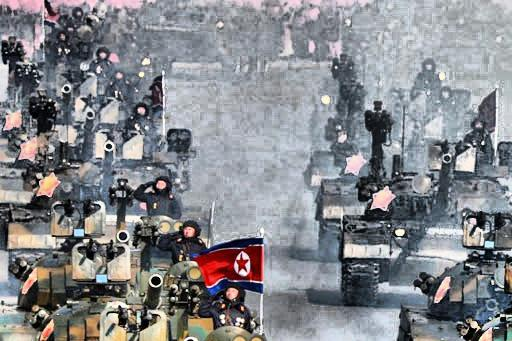tanks: (317, 145, 512, 307), (2, 275, 207, 341), (471, 307, 512, 341), (213, 329, 264, 341), (505, 145, 512, 162), (183, 337, 198, 341)
